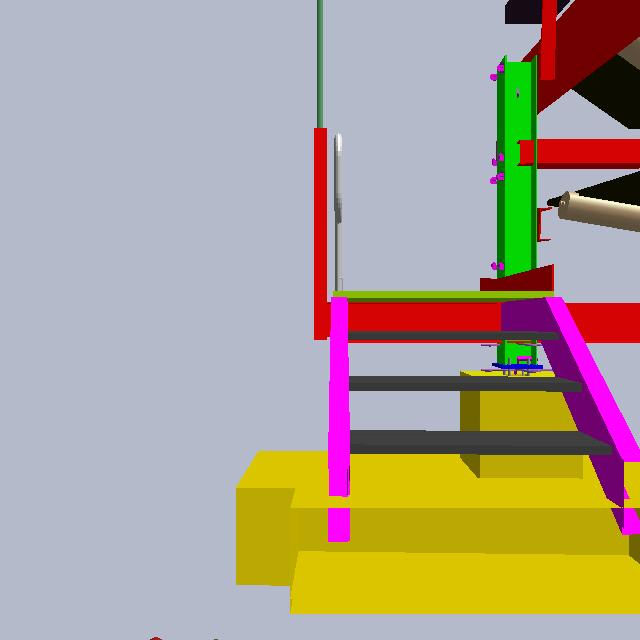Poste: (310, 1, 328, 342)
Soporte: (303, 120, 359, 352)
